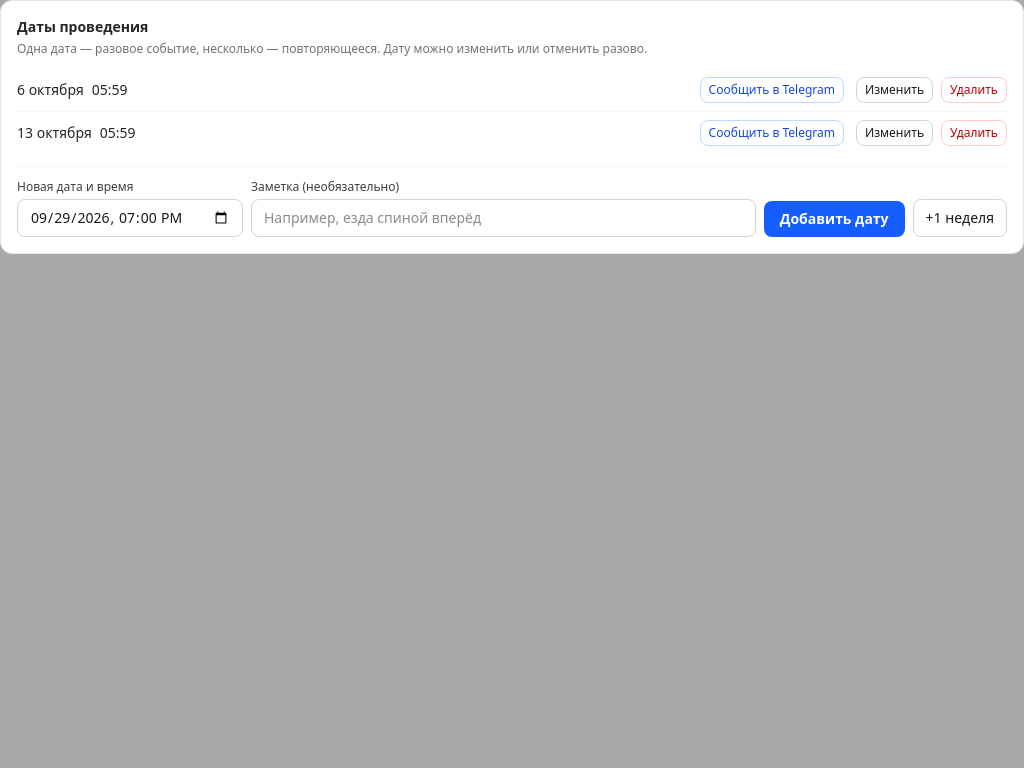
Scenario: EventDatesManager › удаление даты › по «Отмена» в диалоге дату не удаляет
The width and height of the screenshot is (1024, 768).
Click the button "Удалить" in the row of "6 октября": (974,90) [941,77,1007,103]
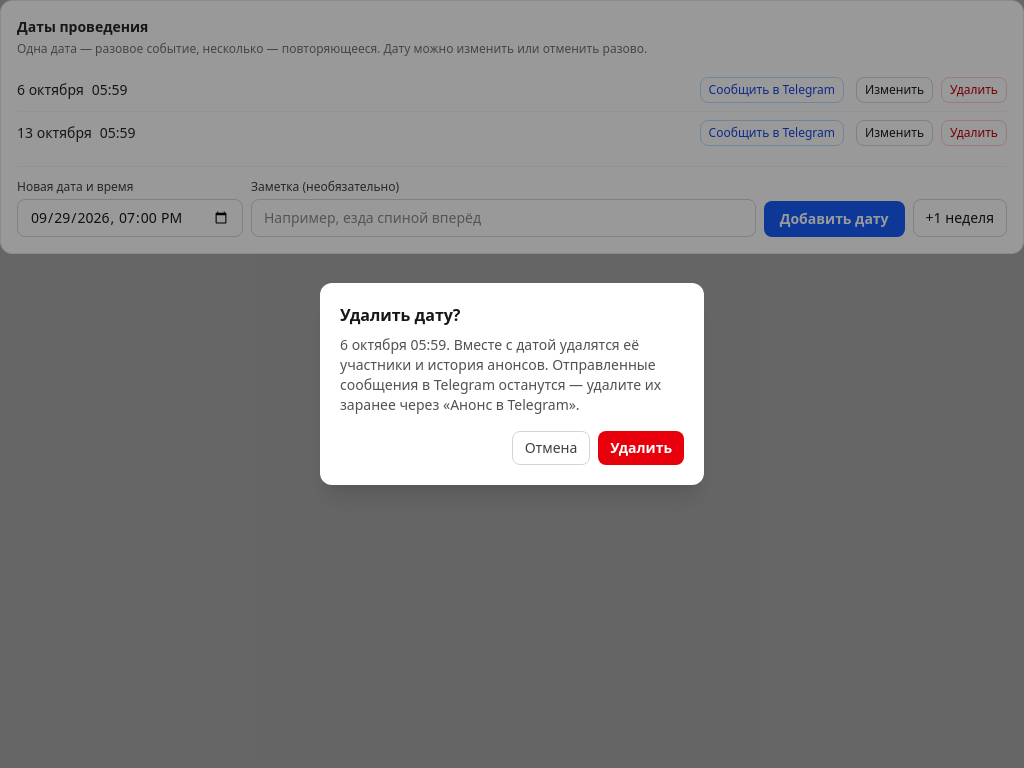
Now the heading "Удалить дату?" is shown, box [340,304,460,326]
Click the button "Отмена": (551,448) [512,431,590,465]
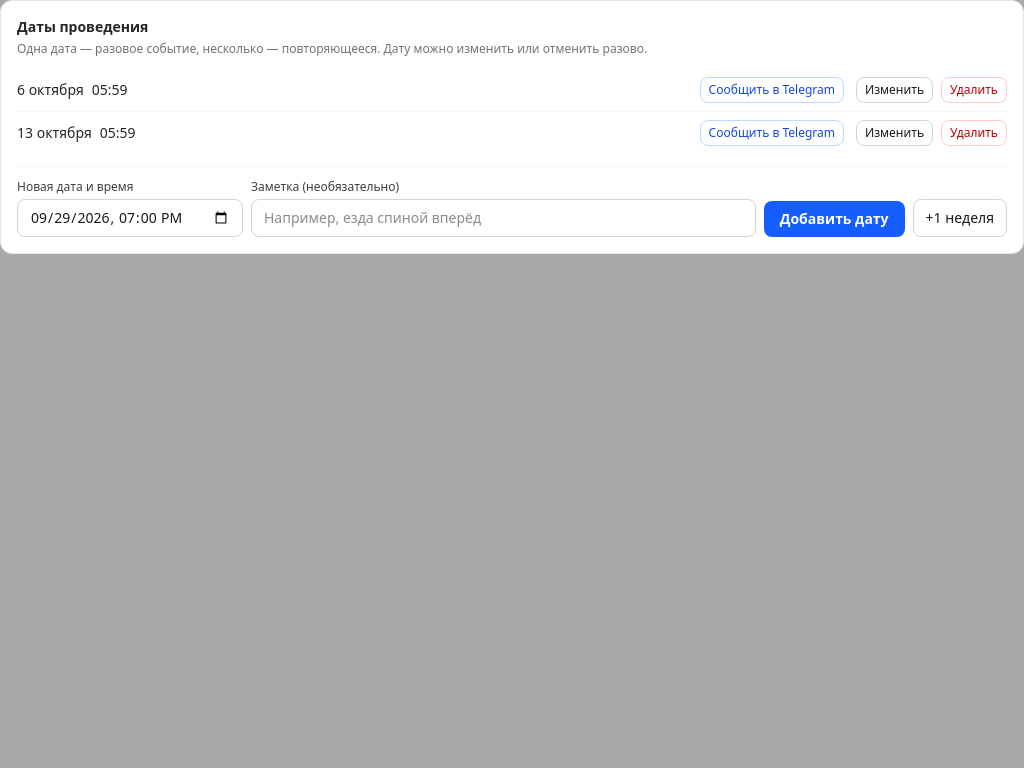
Now the heading "Удалить дату?" is gone
